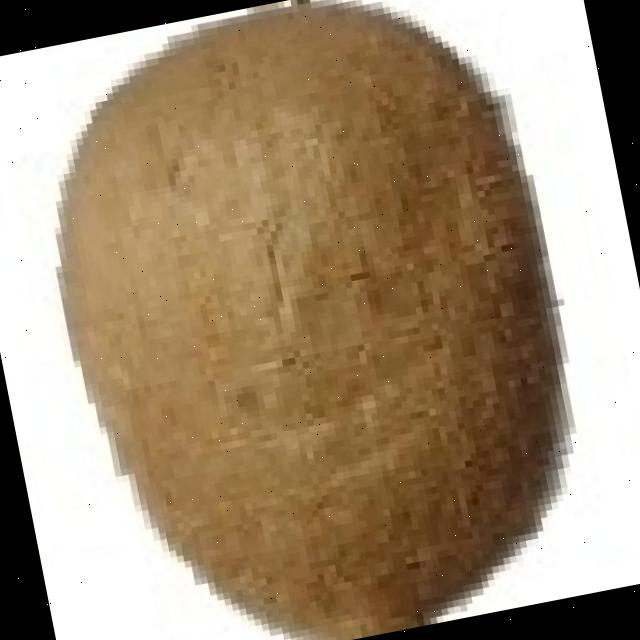kiwi: (52, 0, 547, 633)
